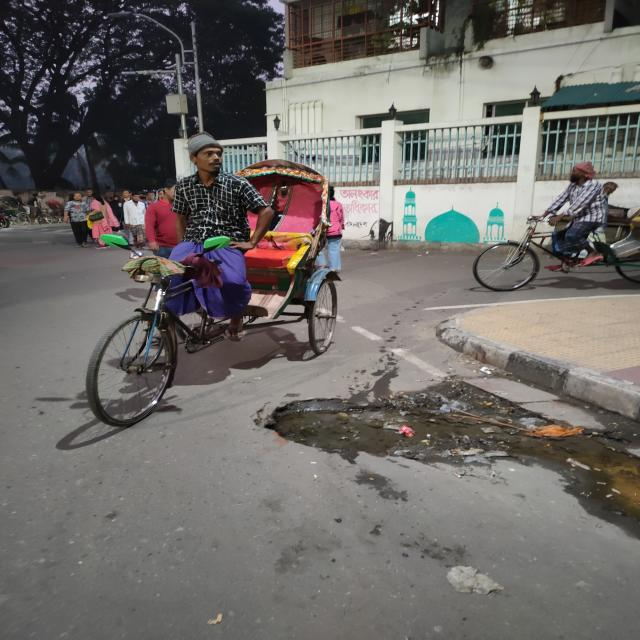rikshaw: (61, 130, 371, 430)
